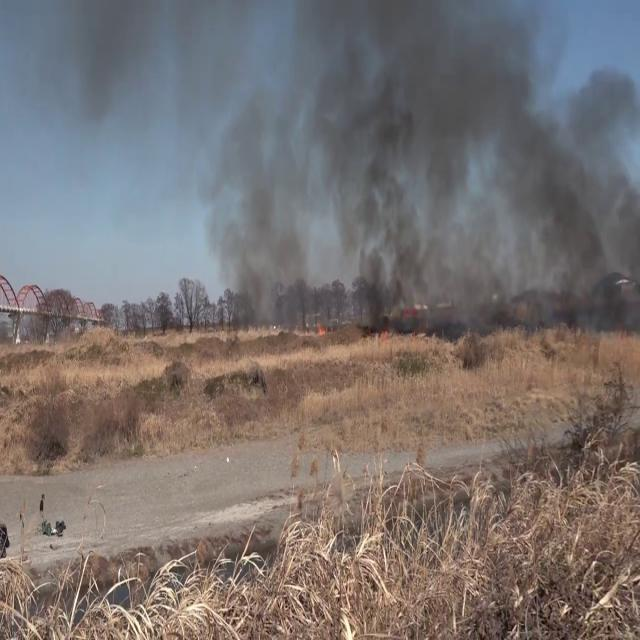Smoke: (314, 1, 640, 330), (197, 75, 326, 329)
